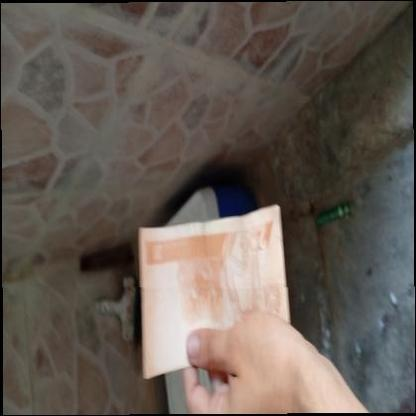twenty-back-vef: (140, 204, 290, 380)
